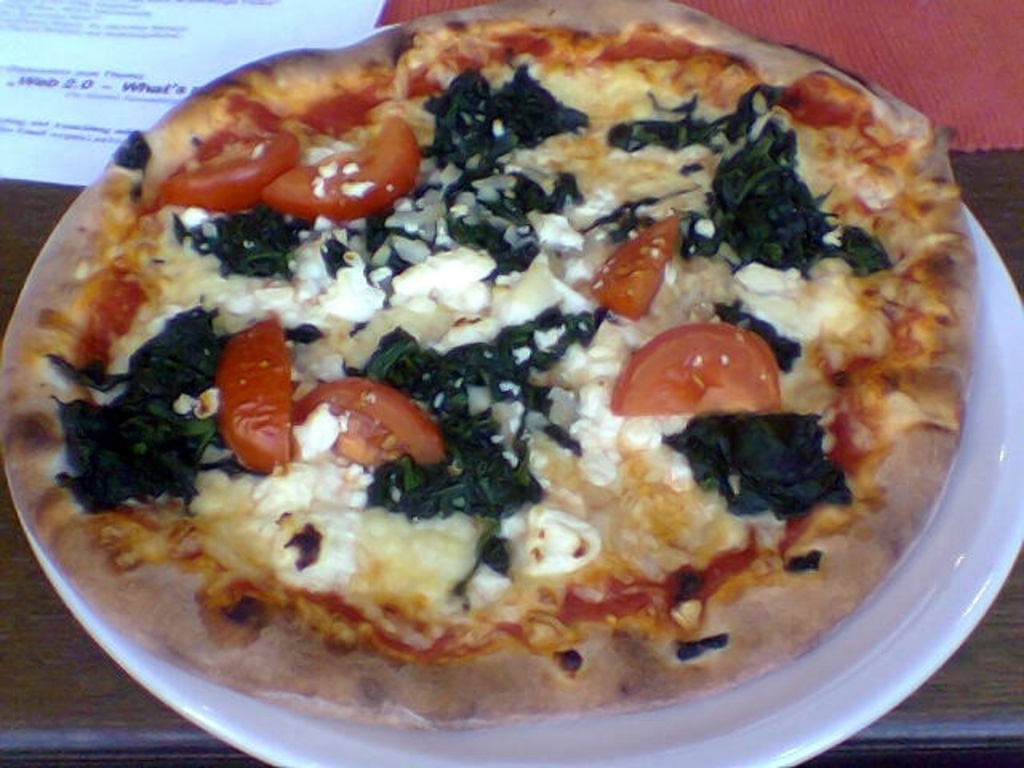Pizza: (0, 20, 958, 742)
